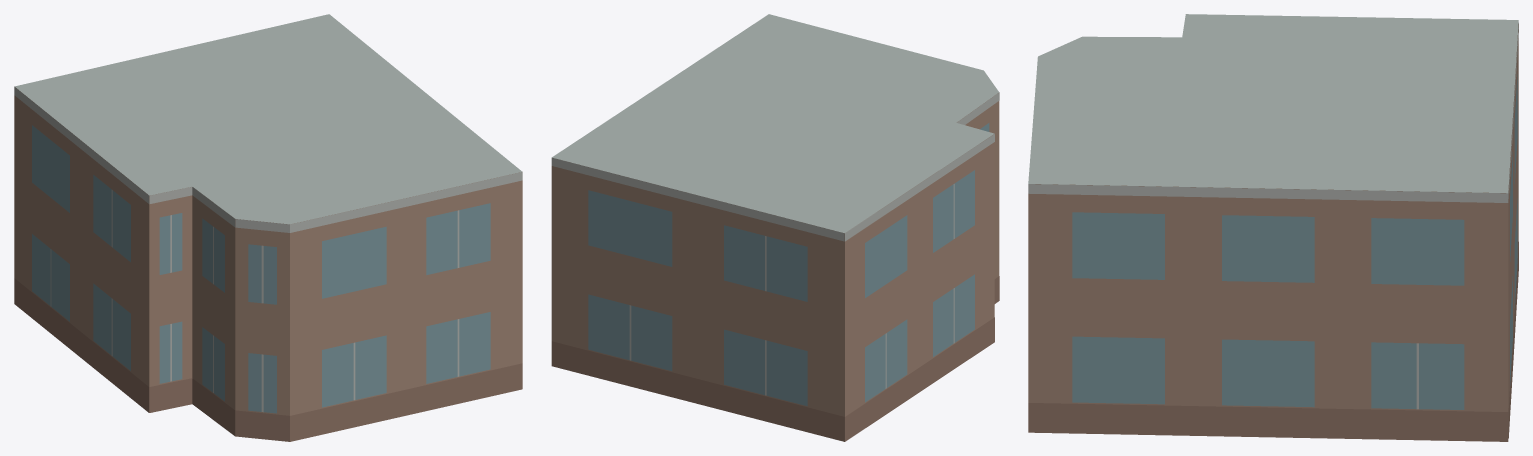
File: survey-upis-32661185.glb
3 views of the same model, side by side, from view 1: azimuth 30°, elevation 25°; view 2: azimuth 150°, elevation 25°; view 3: azimuth 270°, elevation 25° (orthographic). The views are drawn at different scales.
Visible parts, largest first — view 1: survey-upis-32661185.tmp; view 2: survey-upis-32661185.tmp; view 3: survey-upis-32661185.tmp.
Boxes of the visible parts, <box> form: survey-upis-32661185.tmp: <box>14,14,522,441</box>; survey-upis-32661185.tmp: <box>551,14,999,441</box>; survey-upis-32661185.tmp: <box>1028,14,1518,441</box>.
Size of the model in its own units: 9.43 by 6.1 by 10.92.
